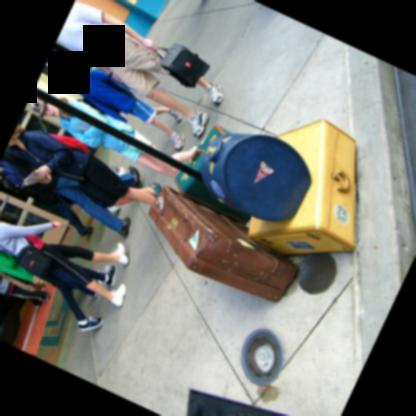backpack: (0, 161, 45, 200), (25, 129, 92, 152)
handbag: (155, 43, 211, 86), (13, 245, 52, 276)
suitcase: (147, 187, 299, 303), (248, 119, 357, 256), (200, 133, 312, 221), (174, 124, 250, 223)
